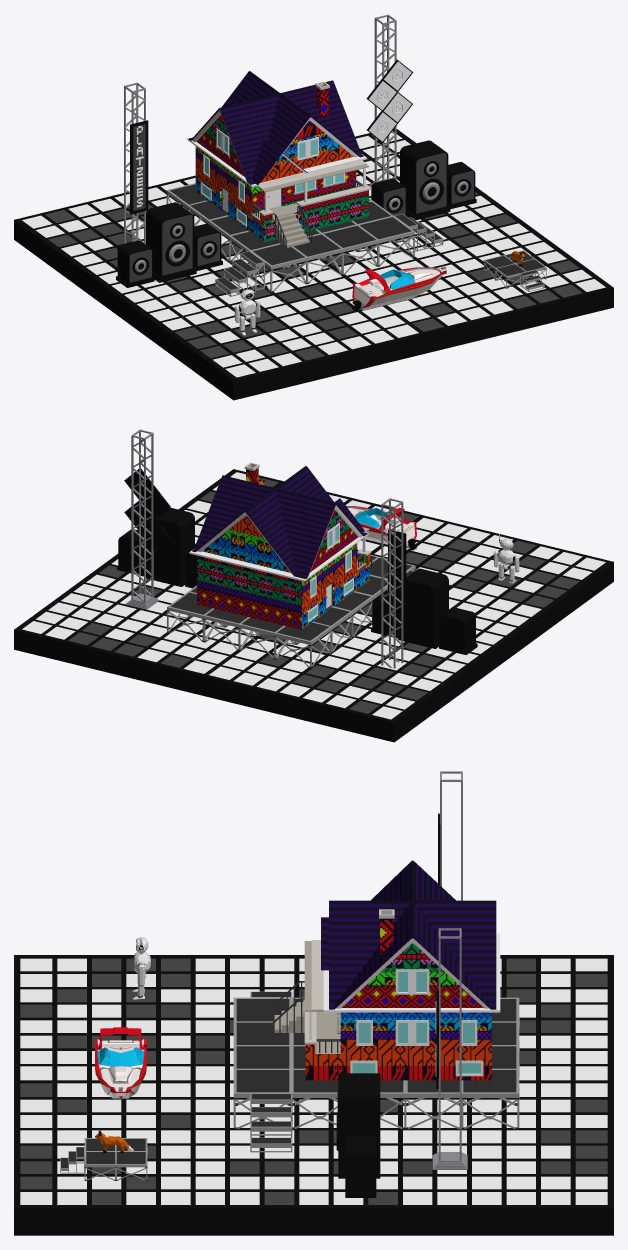
The picture shows the model from 3 angles, top to bottom: view 1: azimuth 30°, elevation 25°; view 2: azimuth 150°, elevation 25°; view 3: azimuth 270°, elevation 25°; orthographic projection. The views are drawn at different scales.
Visible parts, largest first — view 1: Cube.008, Cube.966, VEHICLES_BOAT, OBJRANDOM_PLATZEEBOT; view 2: Cube.008, Cube.966, VEHICLES_BOAT, OBJRANDOM_PLATZEEBOT; view 3: Cube.008, Cube.966, VEHICLES_BOAT, OBJRANDOM_PLATZEEBOT.
Part boxes in pixels (bbox=[...]): Cube.008: bbox=[14, 14, 613, 400]; Cube.966: bbox=[187, 71, 371, 248]; VEHICLES_BOAT: bbox=[352, 266, 446, 311]; OBJRANDOM_PLATZEEBOT: bbox=[234, 284, 260, 335]; Cube.008: bbox=[14, 429, 613, 742]; Cube.966: bbox=[189, 462, 372, 629]; VEHICLES_BOAT: bbox=[346, 506, 416, 550]; OBJRANDOM_PLATZEEBOT: bbox=[493, 534, 519, 583]; Cube.008: bbox=[14, 771, 613, 1235]; Cube.966: bbox=[272, 860, 500, 1080]; VEHICLES_BOAT: bbox=[95, 1027, 146, 1099]; OBJRANDOM_PLATZEEBOT: bbox=[132, 937, 150, 999].
Bounding box in the file's own units: 4000 × 1945 × 4000.
38 materials, 5 textured.
